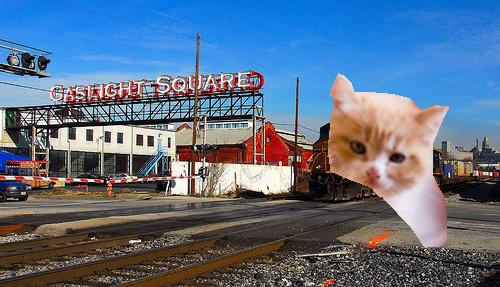tampered: (329, 74, 449, 247)
